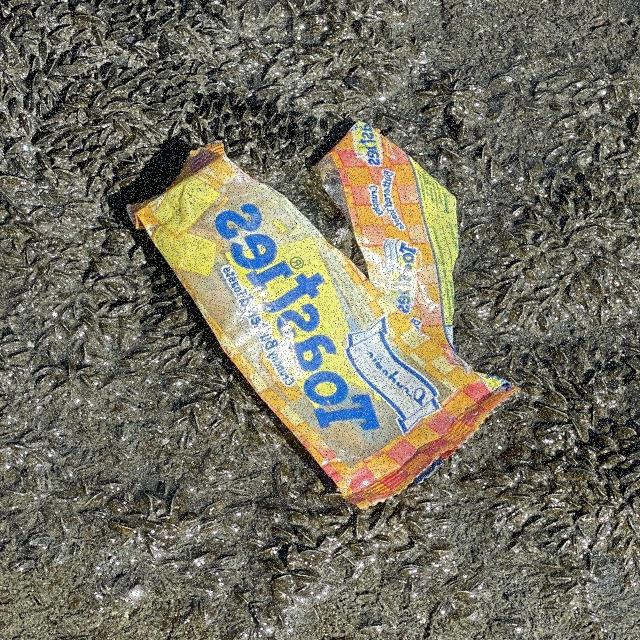plastic_waste: (115, 113, 519, 519)
